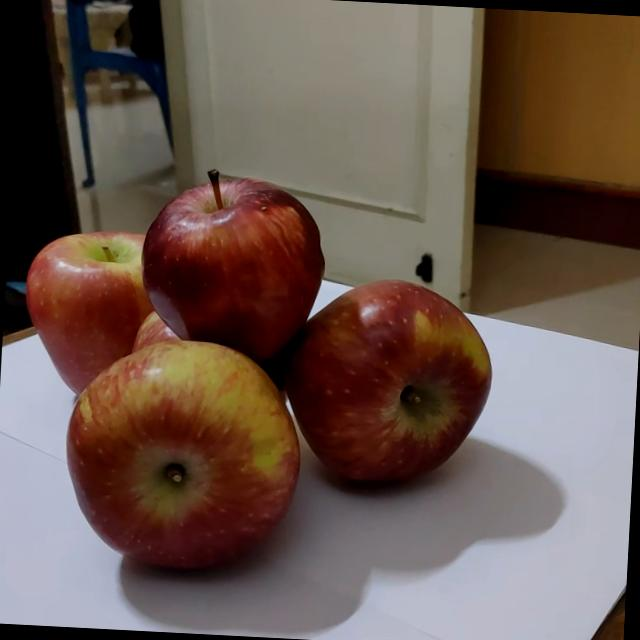apple: (254, 260, 498, 520), (64, 363, 260, 566), (119, 172, 309, 368), (2, 212, 176, 387)
